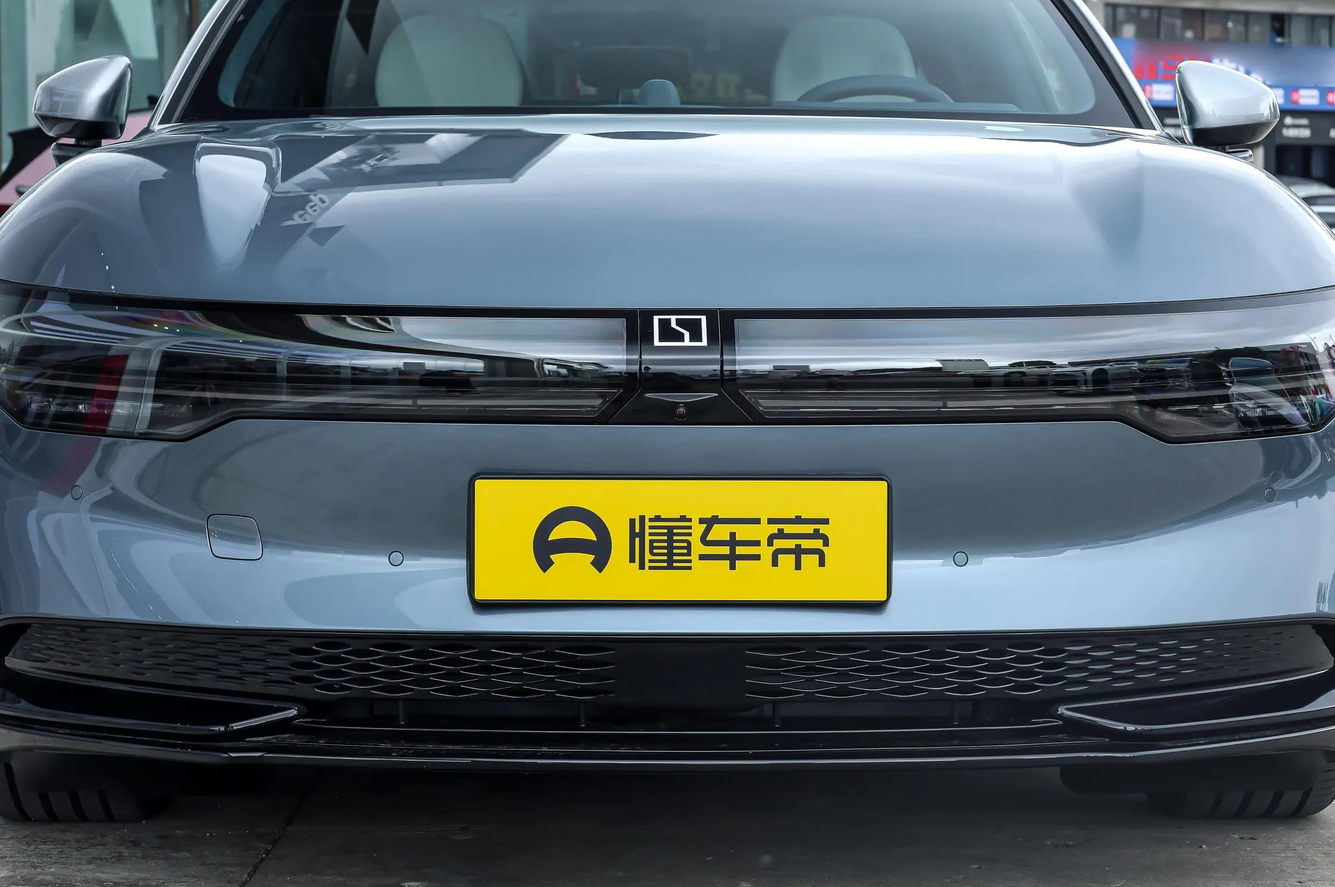ZEEKR: (654, 316, 707, 345)
